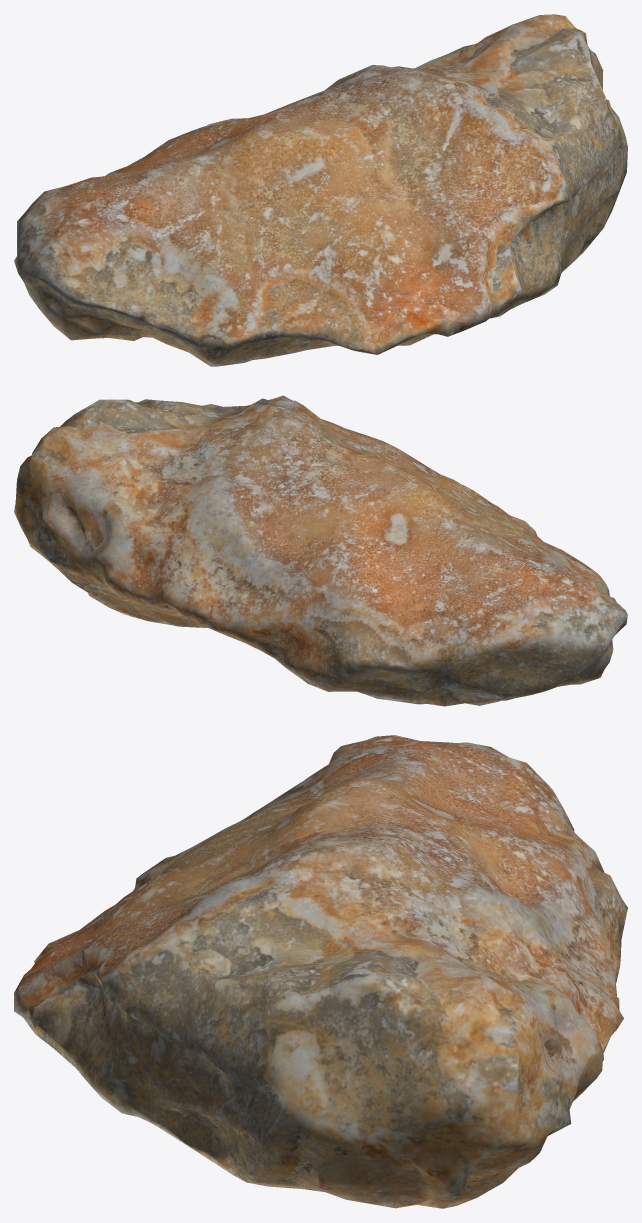
The model's file is rock_stone.glb.
3 views of the same model, one above another, from view 1: azimuth 30°, elevation 25°; view 2: azimuth 150°, elevation 25°; view 3: azimuth 270°, elevation 25° (orthographic). The views are drawn at different scales.
Parts seen in each view (by area): view 1: Object_2; view 2: Object_2; view 3: Object_2.
Part boxes in pixels (x1,y1,x2,y2): Object_2: (14, 14, 627, 366); Object_2: (14, 395, 627, 706); Object_2: (14, 735, 627, 1208).
Size of the model in its own units: 1.52 by 0.4953 by 0.9741.
1 material, 1 textured.
